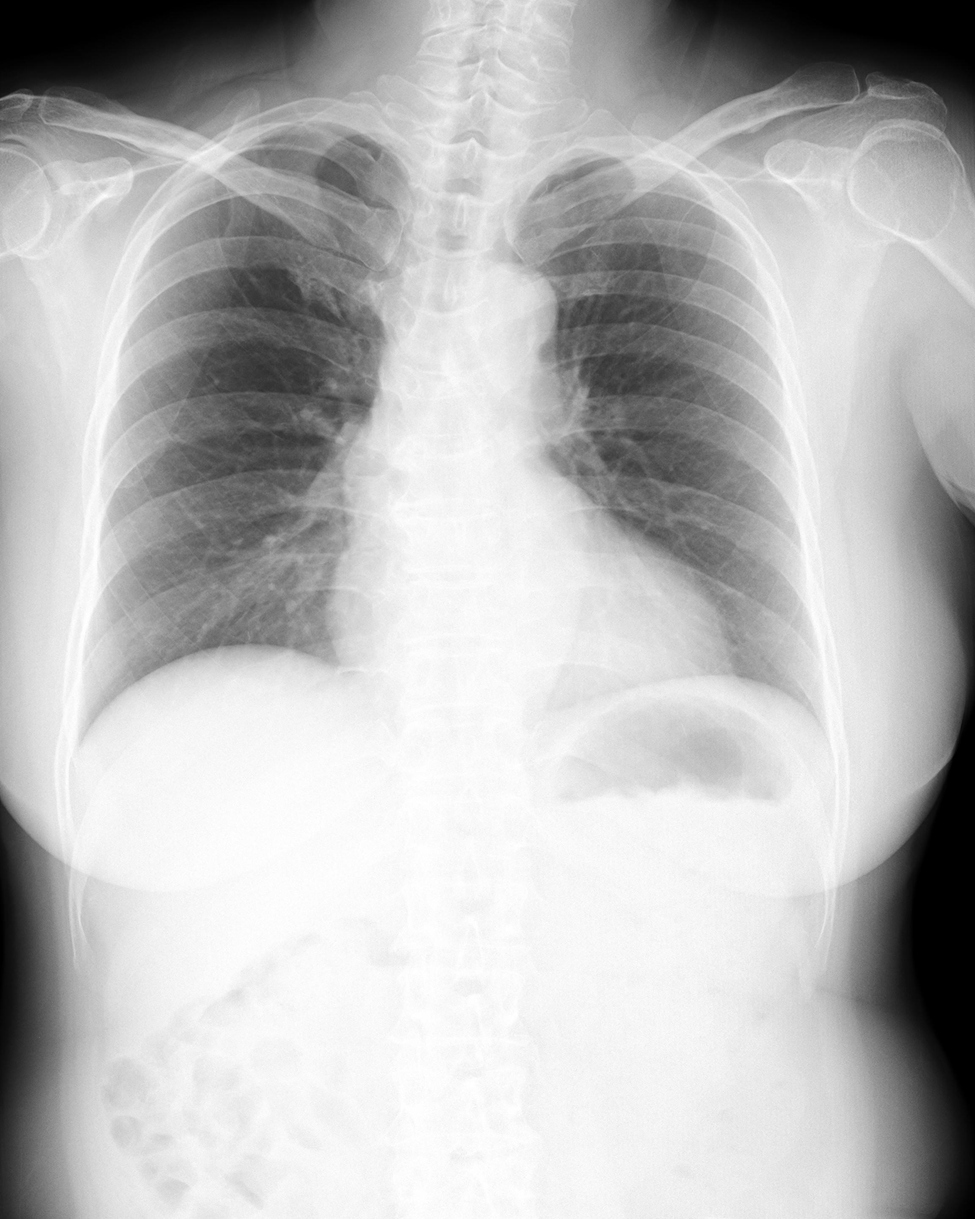Aortic enlargement: (449, 259, 560, 361)
Cardiomegaly: (320, 579, 735, 705)
